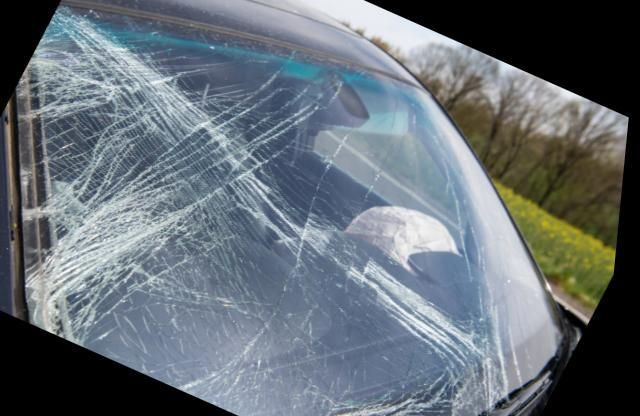glass shatter: (15, 5, 576, 416)
